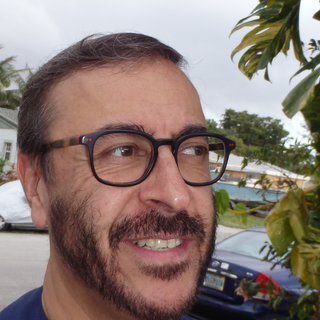eye: (101, 141, 144, 165), (176, 140, 211, 161)
